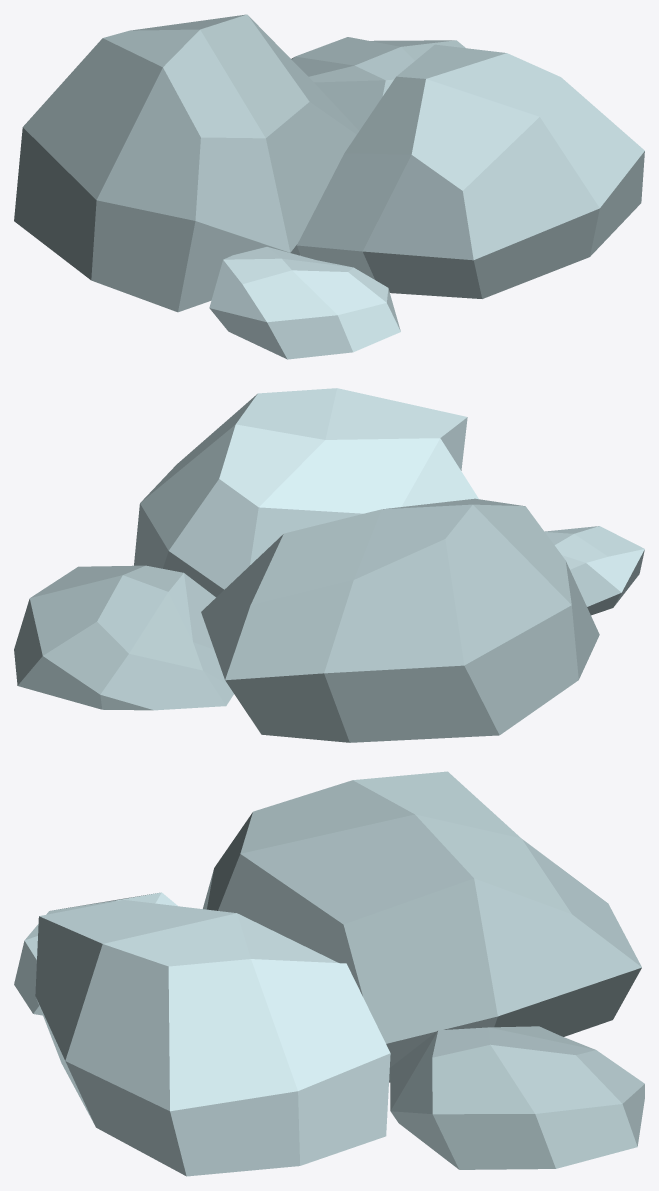
The model's file is Stone_6_Formation.fbx.
3 views of the same model, one above another, from view 1: azimuth 30°, elevation 25°; view 2: azimuth 150°, elevation 25°; view 3: azimuth 270°, elevation 25° (orthographic). The views are drawn at different scales.
Parts seen in each view (by area): view 1: Stone_6_Formation; view 2: Stone_6_Formation; view 3: Stone_6_Formation.
Part boxes in pixels (bbox=[...]): Stone_6_Formation: bbox=[14, 14, 644, 359]; Stone_6_Formation: bbox=[14, 388, 644, 742]; Stone_6_Formation: bbox=[14, 771, 644, 1176].
Size of the model in its own units: 0.3807 by 0.1308 by 0.3968.
